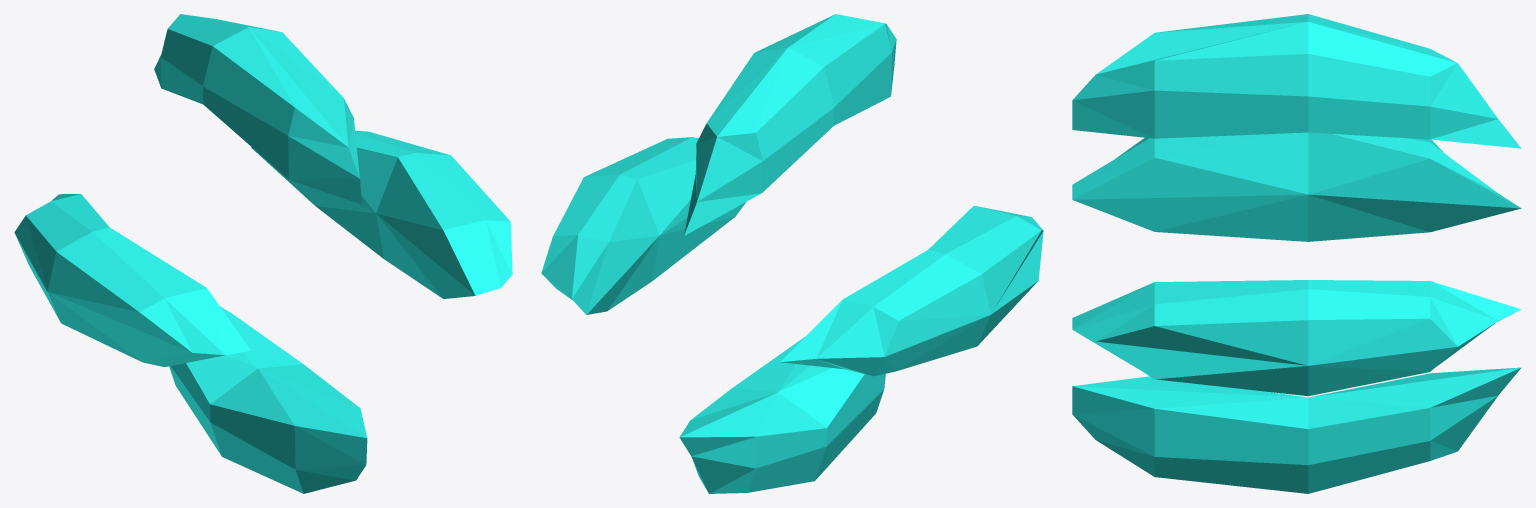
Rendered from PlayerOuterShooter.obj.
3 views of the same model, side by side, from view 1: azimuth 30°, elevation 25°; view 2: azimuth 150°, elevation 25°; view 3: azimuth 270°, elevation 25° (orthographic). The views are drawn at different scales.
Parts seen in each view (by area): view 1: 立方体; view 2: 立方体; view 3: 立方体.
Part boxes in pixels (bbox=[...]): 立方体: bbox=[14, 14, 512, 493]; 立方体: bbox=[541, 14, 1043, 493]; 立方体: bbox=[1072, 14, 1521, 493].
Bounding box in the file's own units: 4.47 × 4.46 × 3.9.
Materials: 2 (2 with a texture image).
